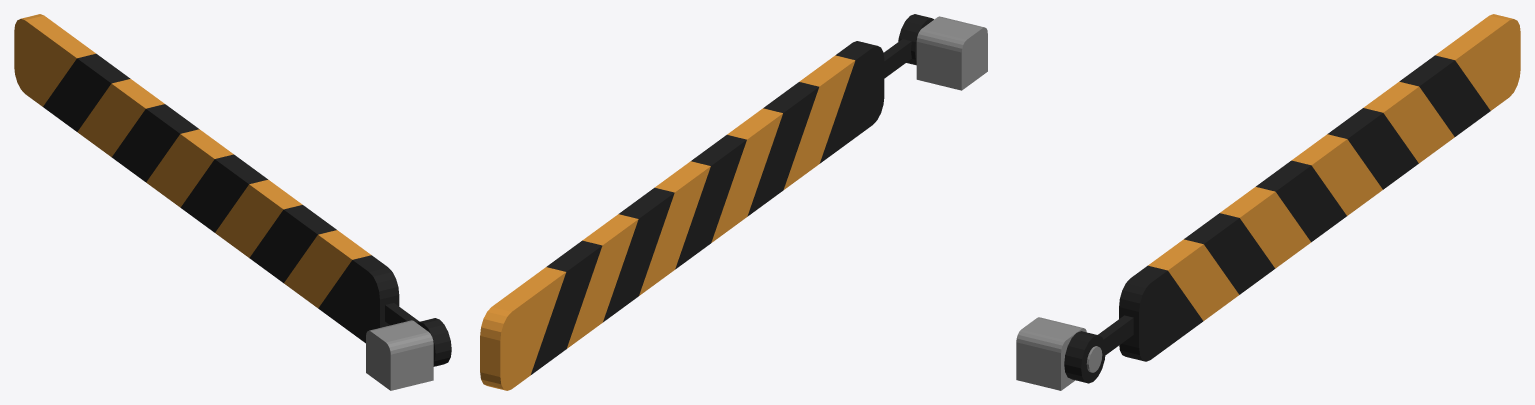
The model's file is Barrera_completa.fbx.
The picture shows the model from 3 angles, left to right: view 1: azimuth 30°, elevation 25°; view 2: azimuth 150°, elevation 25°; view 3: azimuth 330°, elevation 25°; orthographic projection. The views are drawn at different scales.
Visible parts, largest first — view 1: Cylinder, Cube; view 2: Cylinder, Cube; view 3: Cylinder, Cube.
Part boxes in pixels (box(x1,y1,x2,y2)): Cylinder: box(14, 14, 451, 366); Cube: box(366, 320, 433, 390); Cylinder: box(480, 14, 933, 390); Cube: box(916, 16, 987, 90); Cylinder: box(1064, 14, 1520, 383); Cube: box(1016, 317, 1102, 390).
Bounding box in the file's own units: 25 × 27.68 × 286.
